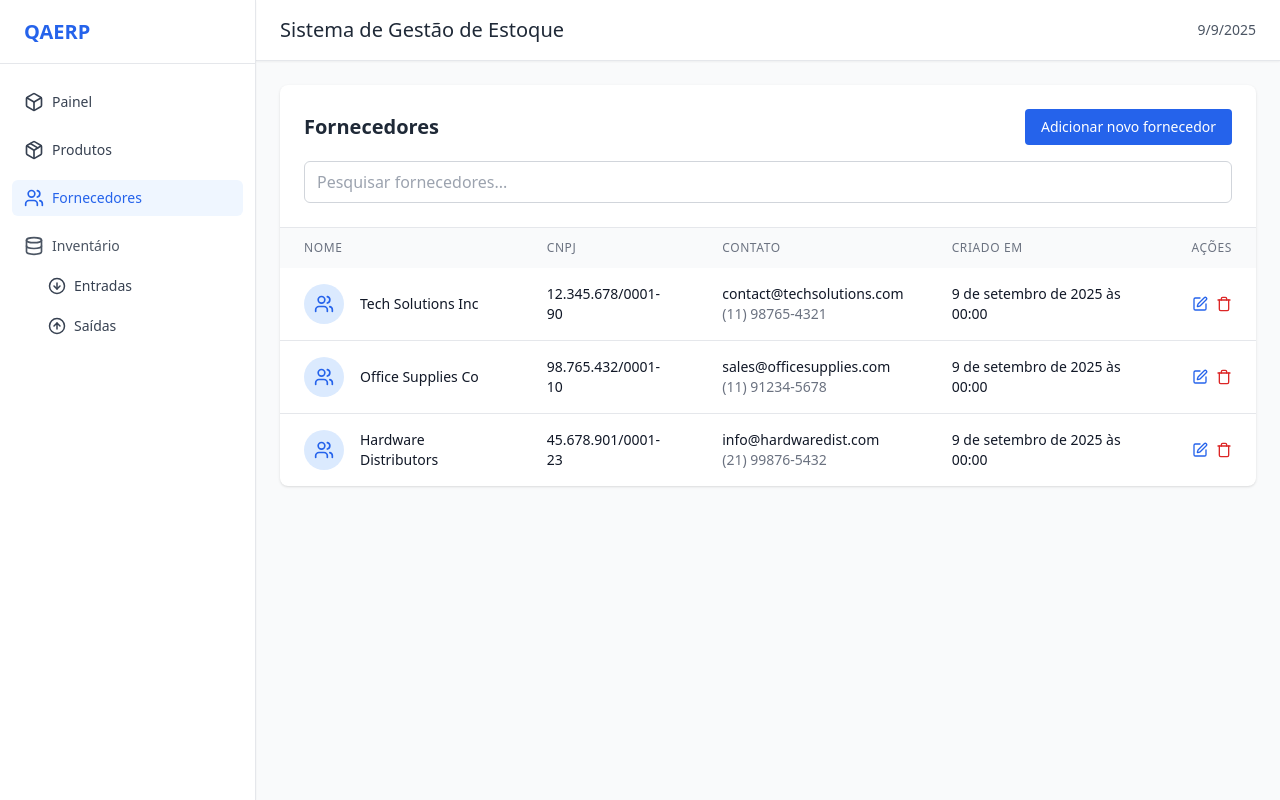
Scenario: Fornececdores › Excluir fornecedor › Excluindo
The image size is (1280, 800).
Step 1. Click the 8th icon with class "lucide" → x=1224, y=304, box [1216,296,1232,312]
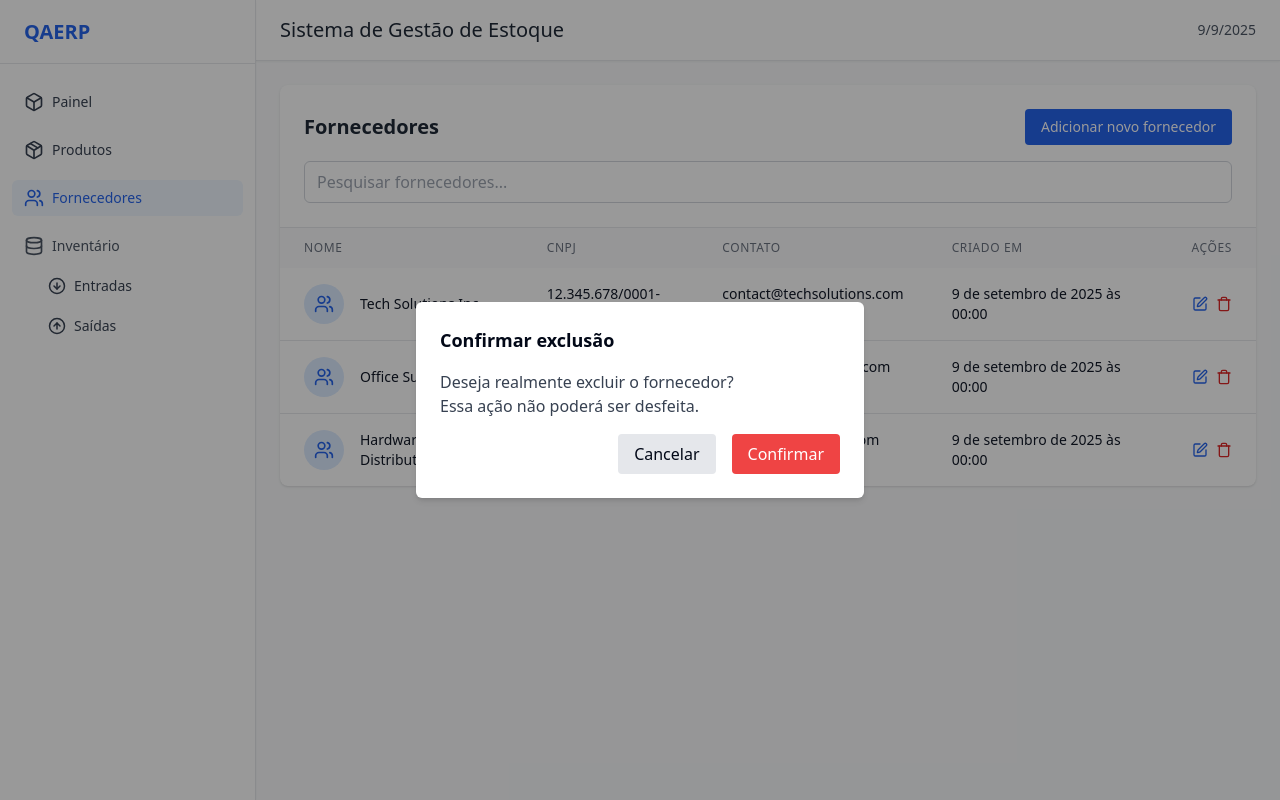
Step 2. Click the button "Confirmar" → x=787, y=454, box [732,434,841,474]
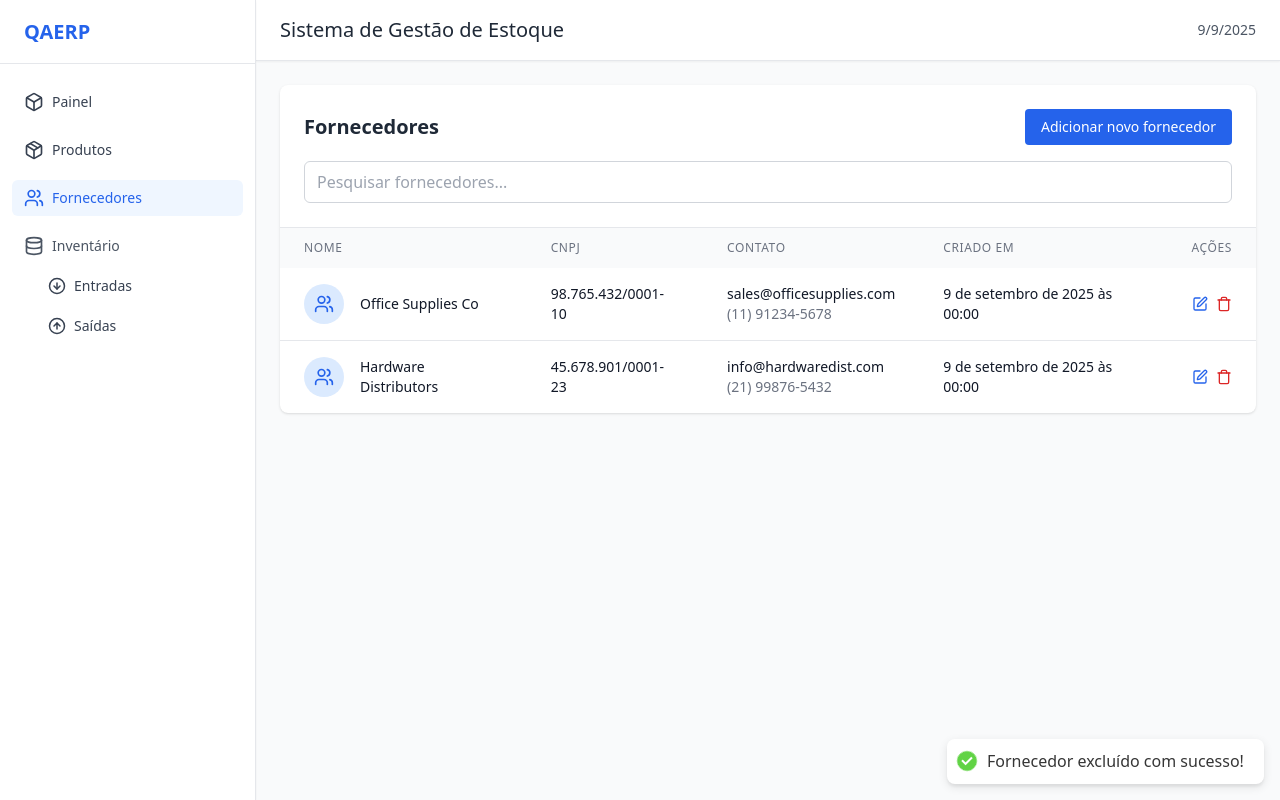
expect the text "Fornecedor excluído com sucesso!" is shown: met, box [987,751,1244,772]
